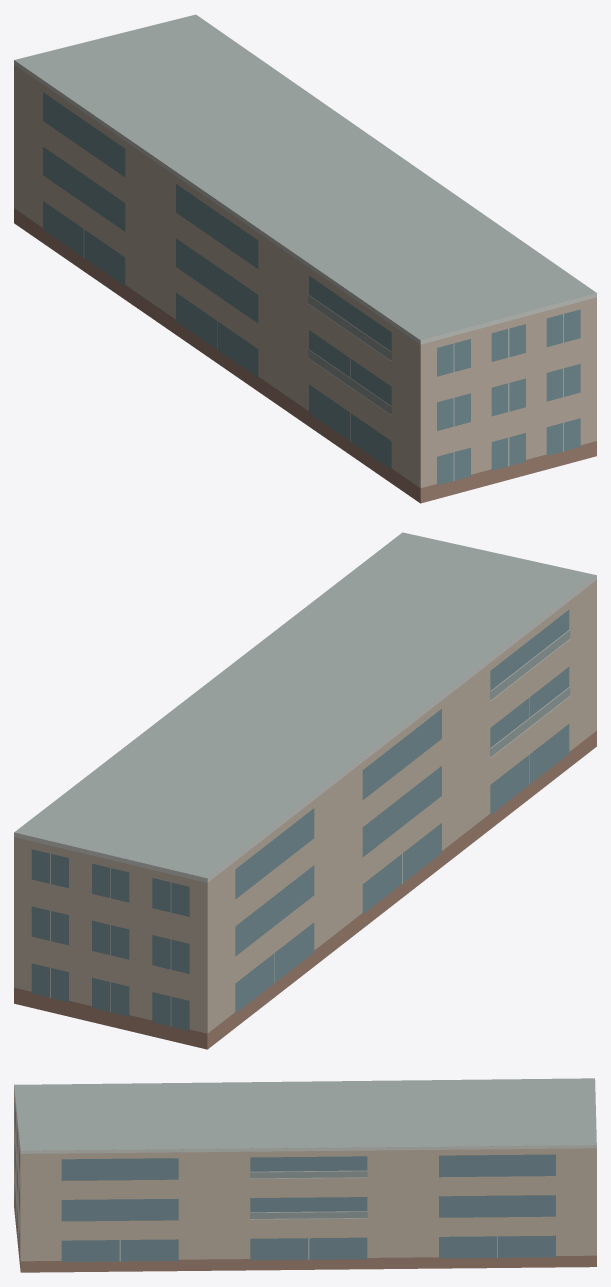
The model's file is survey-upis-32762315.glb.
The picture shows the model from 3 angles, top to bottom: view 1: azimuth 30°, elevation 25°; view 2: azimuth 150°, elevation 25°; view 3: azimuth 270°, elevation 25°; orthographic projection. The views are drawn at different scales.
Visible parts, largest first — view 1: survey-upis-32762315.tmp; view 2: survey-upis-32762315.tmp; view 3: survey-upis-32762315.tmp.
Boxes of the visible parts, x1,y1,x2,y2 form: survey-upis-32762315.tmp: (14, 14, 596, 503); survey-upis-32762315.tmp: (14, 532, 596, 1049); survey-upis-32762315.tmp: (14, 1078, 596, 1272).
Size of the model in its own units: 11.66 by 9.15 by 39.65.
